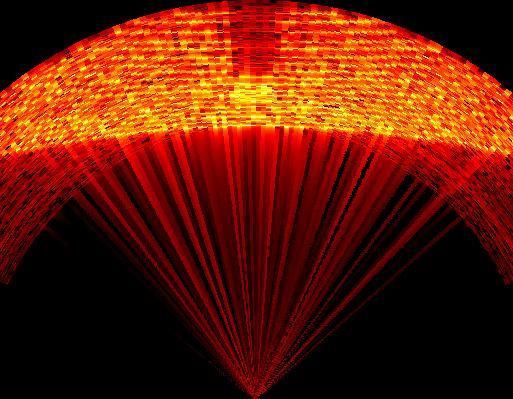box_crate: (224, 0, 285, 100)
